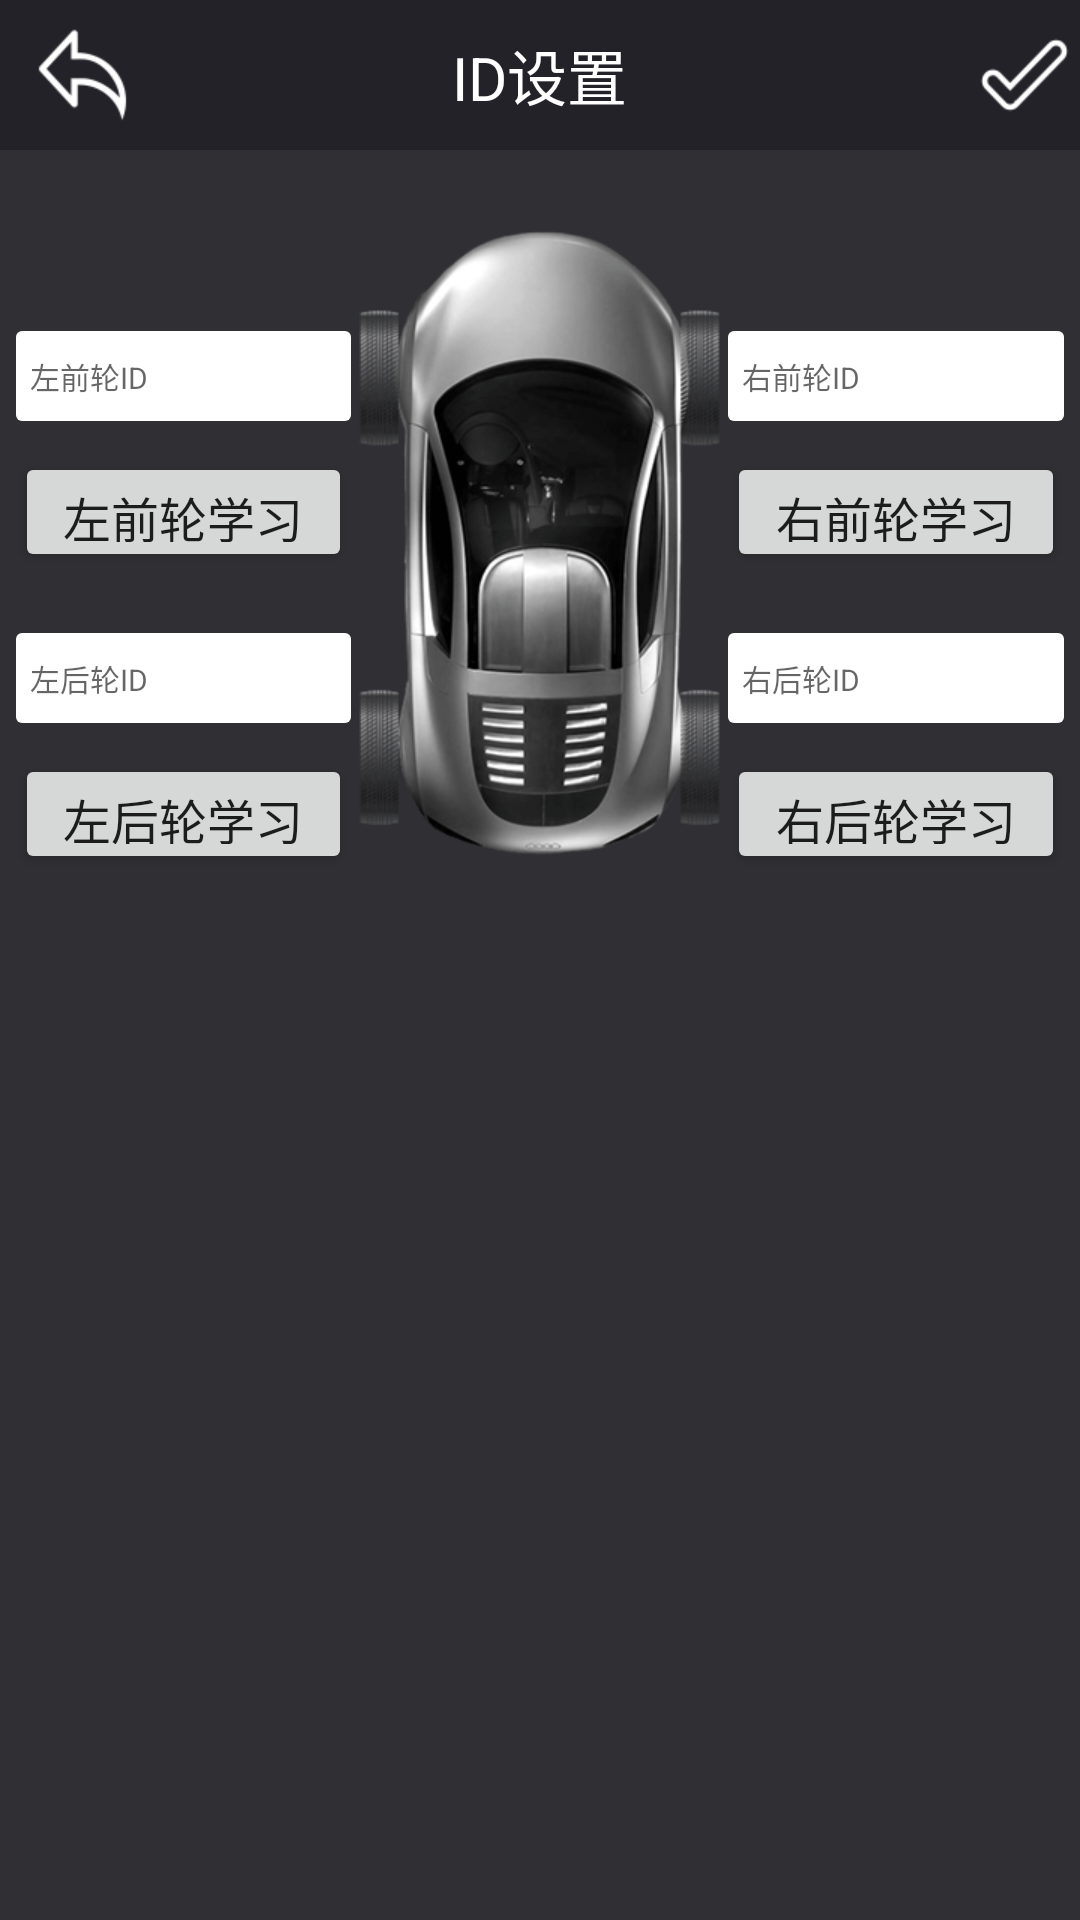

Icon click points for this 1080px x 1920px phone screenshot, format (x,y):
check save: (1024,75)
